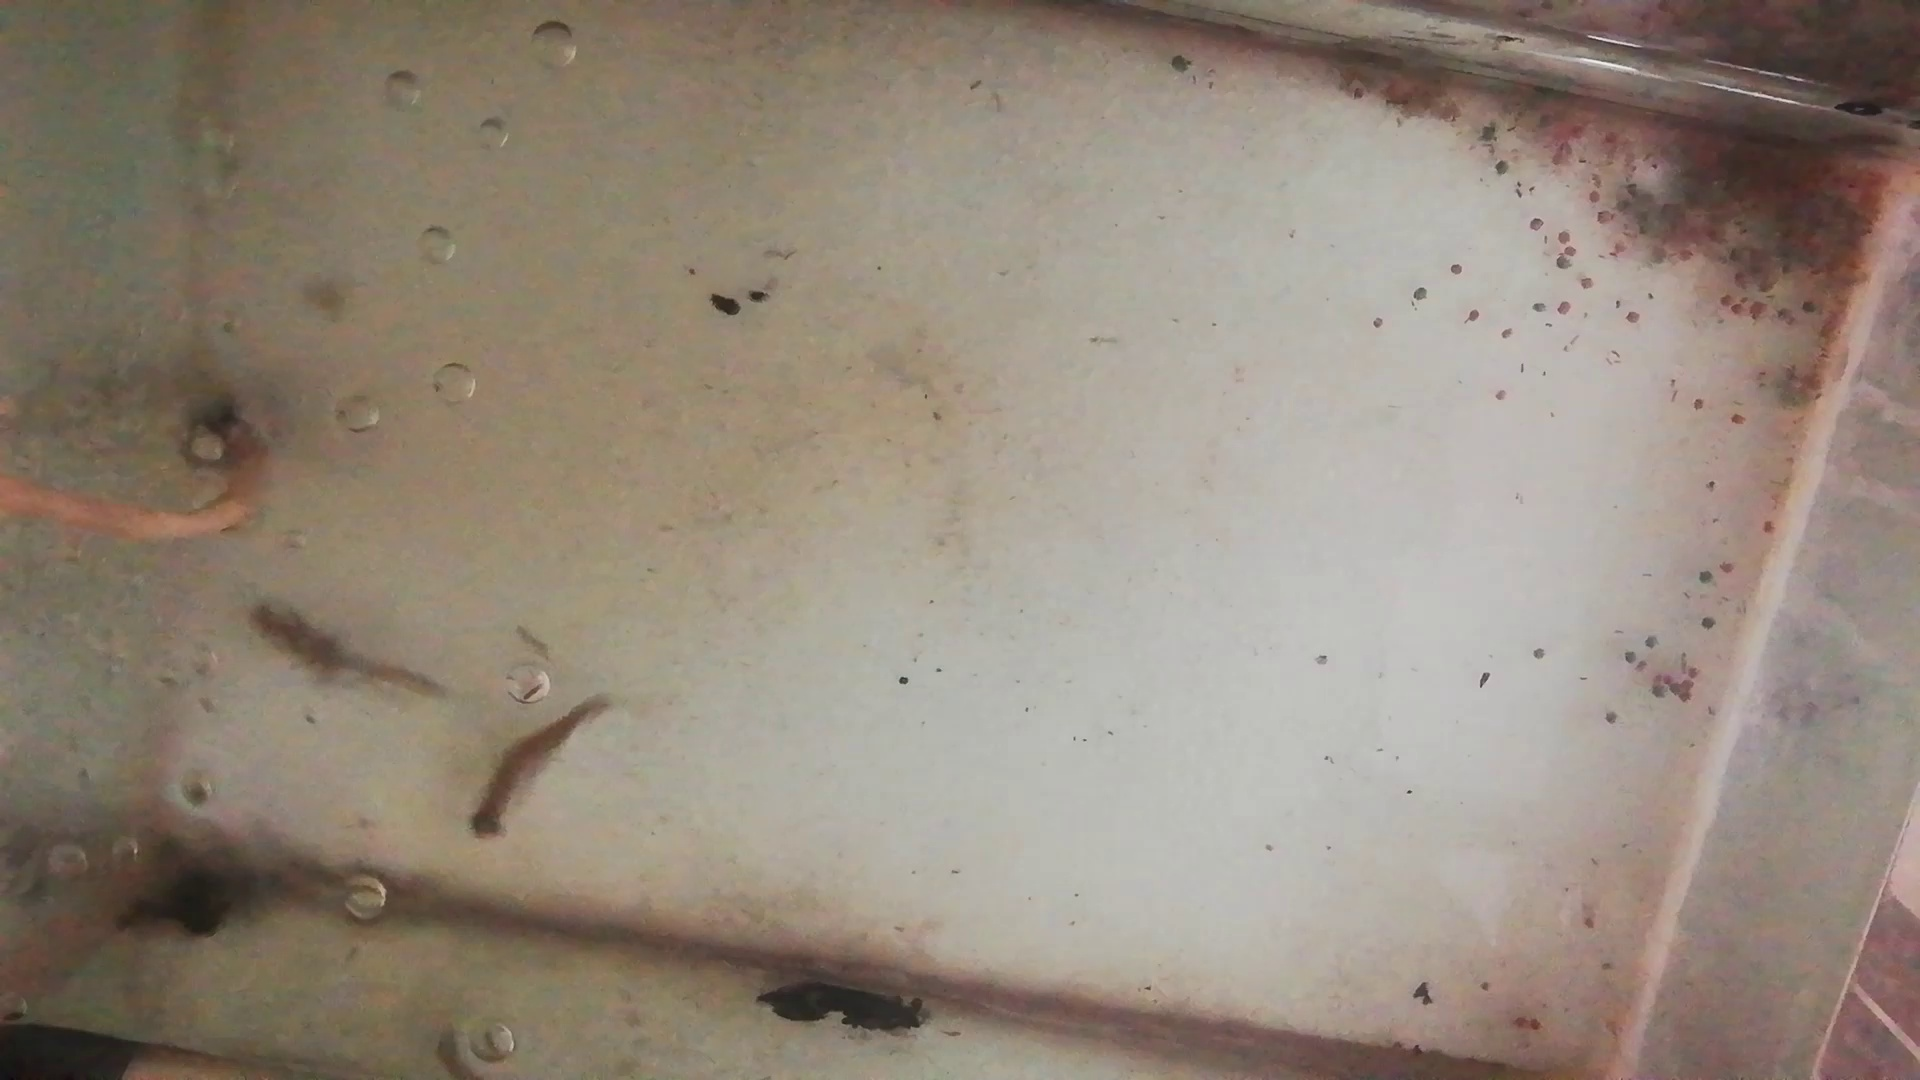fish: (245, 595, 446, 705), (468, 698, 613, 844)
